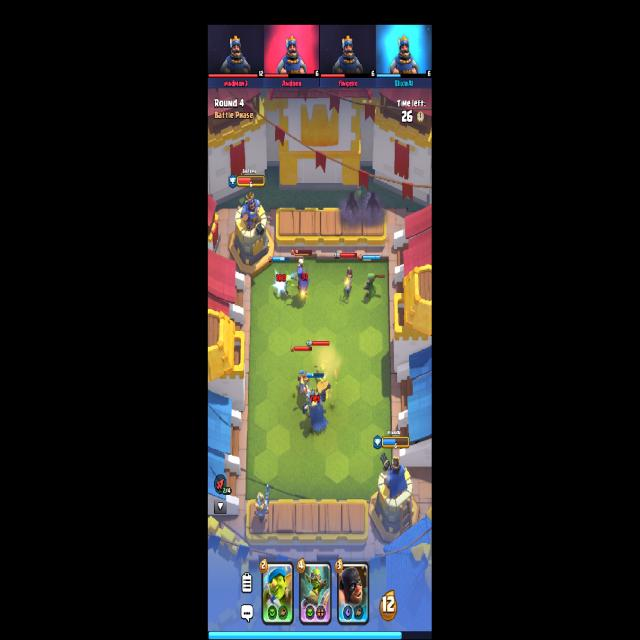bandit: (364, 270, 385, 298)
card_executioner: (337, 562, 370, 625)
card_goblin_machine: (299, 562, 332, 625)
card_spear_goblin: (262, 562, 293, 624)
goblin: (277, 270, 296, 297), (315, 362, 331, 386)
prince: (255, 484, 270, 523), (297, 370, 315, 402)
princess: (343, 266, 354, 296)
skeleton_king: (303, 383, 332, 434)
witch: (290, 257, 310, 297)
